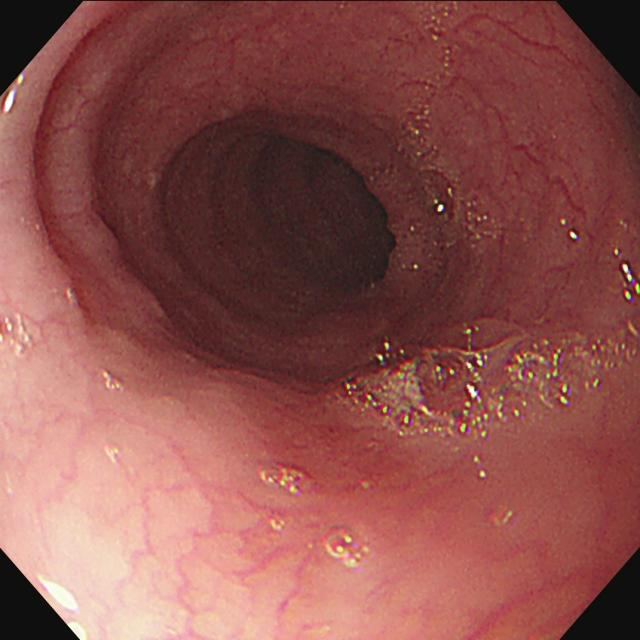E: (275, 143, 398, 287)
T: (342, 322, 640, 437), (410, 2, 496, 241), (326, 532, 370, 568)
U: (4, 76, 27, 115), (621, 262, 640, 304)
